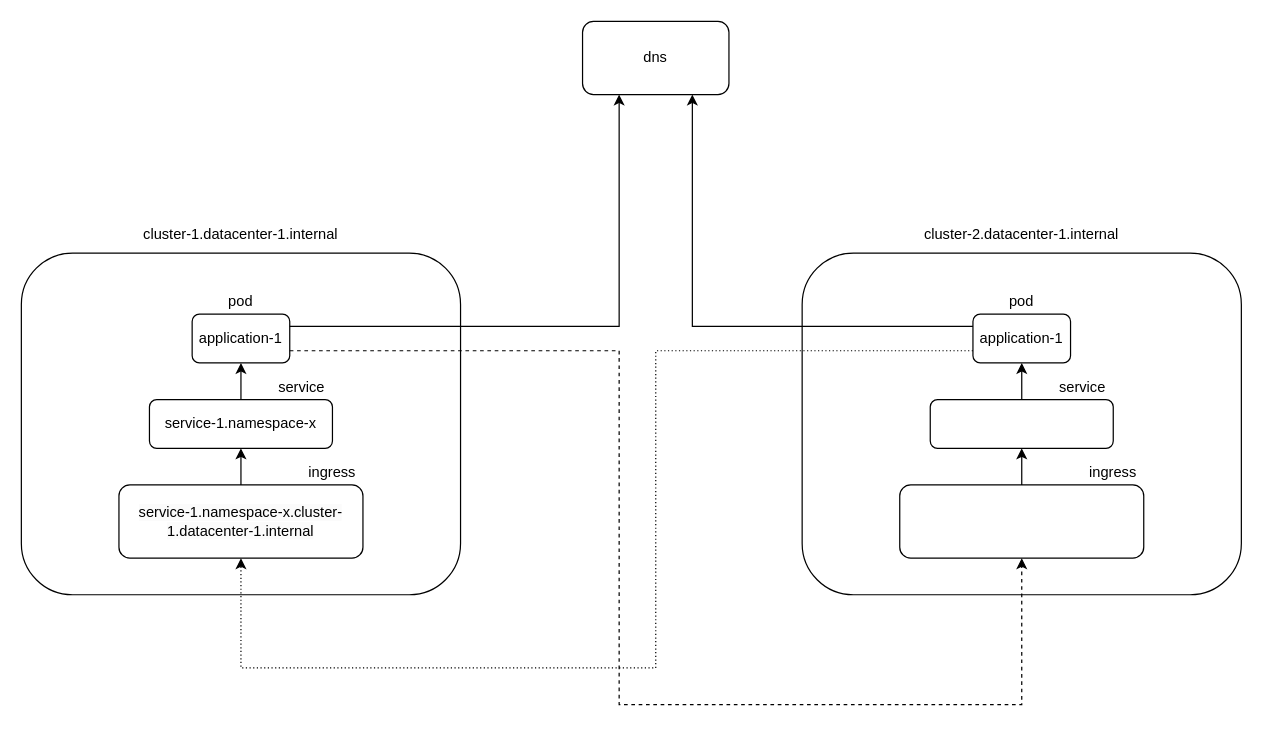
This 1263x736 diagram has some shape labels left out. The shapes that lost their labels are listed below. From the top down, each one's centre as x and y in pixels, then its label:
[1021,423]: service-1.namespace-y
[1021,521]: service-1.namespace-y.cluster-2.datacenter-1.internal
